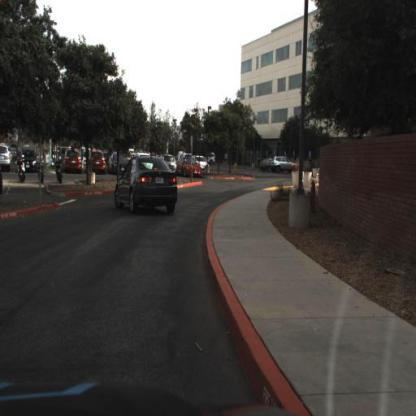car: (111, 148, 179, 220), (107, 152, 135, 179), (61, 148, 86, 178), (178, 153, 203, 182), (16, 146, 40, 176), (175, 156, 202, 182), (87, 147, 109, 175), (269, 154, 298, 175), (270, 154, 298, 175), (2, 141, 14, 175), (1, 143, 13, 173), (196, 153, 210, 175), (205, 152, 217, 169)
